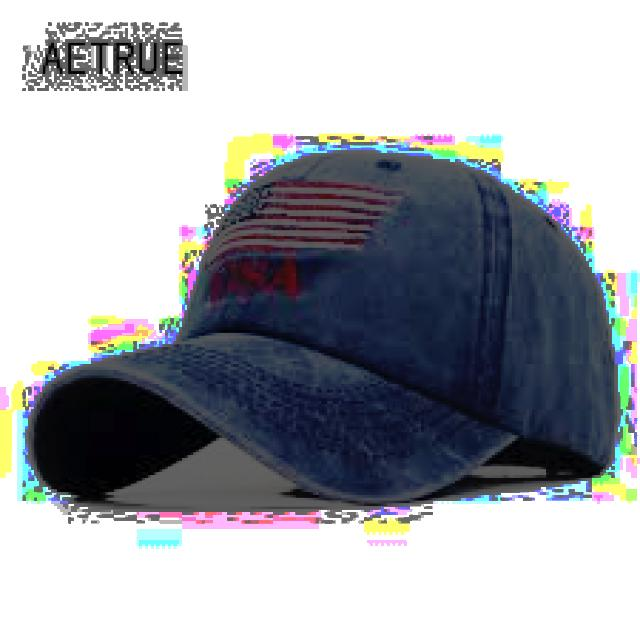TOPI: (17, 145, 617, 504)
